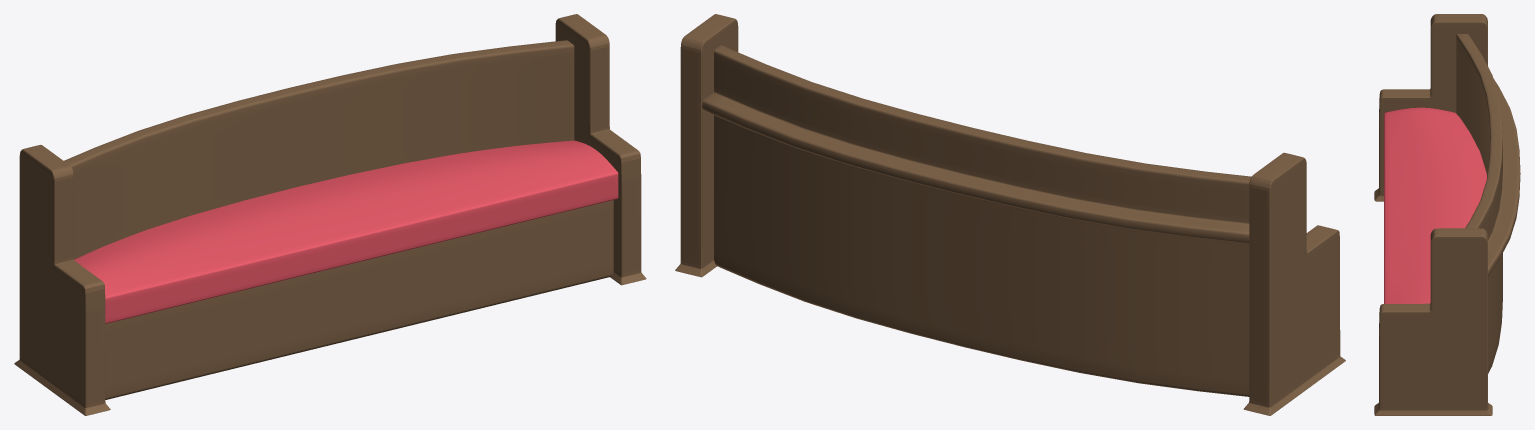
File: Banco_aula.fbx
3 views of the same model, side by side, from view 1: azimuth 30°, elevation 25°; view 2: azimuth 150°, elevation 25°; view 3: azimuth 270°, elevation 25° (orthographic). The views are drawn at different scales.
Visible parts, largest first — view 1: Cube.001; view 2: Cube.001; view 3: Cube.001.
Boxes of the visible parts, box(x1,y1,x2,y2) form: Cube.001: box(14, 14, 646, 415); Cube.001: box(675, 14, 1345, 415); Cube.001: box(1374, 14, 1520, 415).
Bounding box in the file's own units: 327 × 121 × 89.76.
